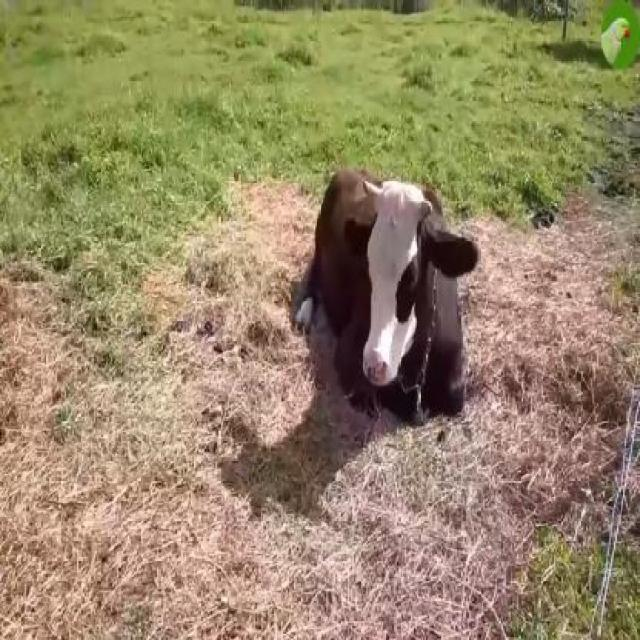Cow: (292, 165, 478, 423)
